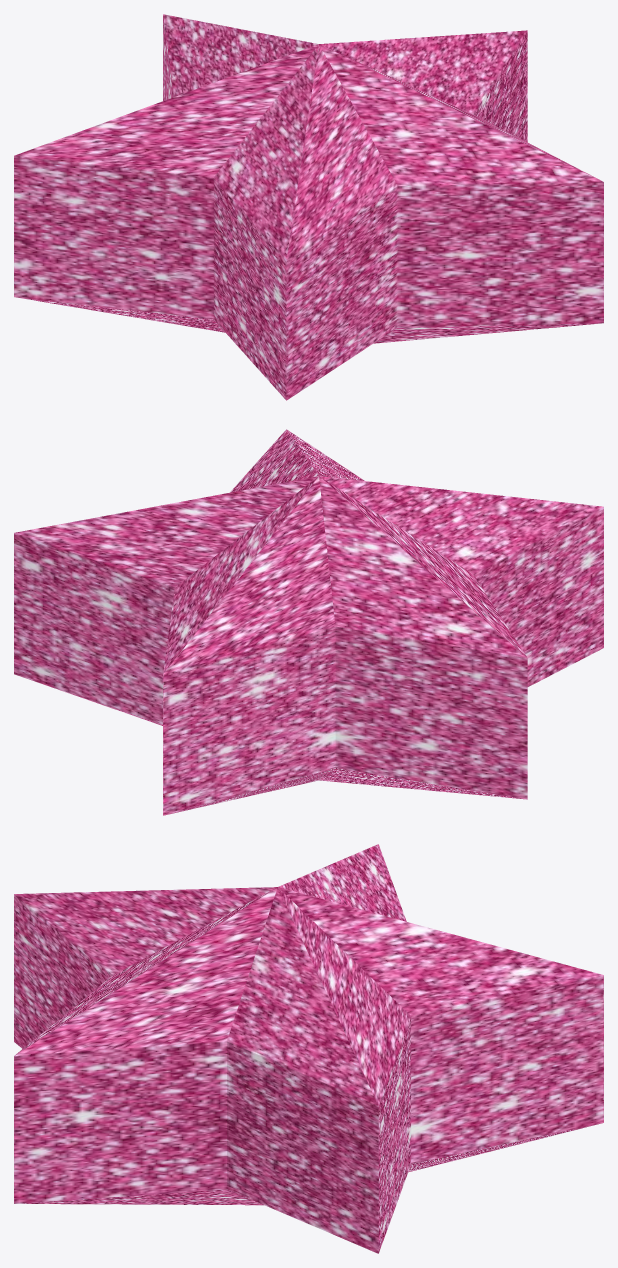
The model's file is starpink.glb.
3 renders of one model, top to bottom at view 1: azimuth 30°, elevation 25°; view 2: azimuth 150°, elevation 25°; view 3: azimuth 270°, elevation 25°, orthographic. The views are drawn at different scales.
Visible parts, largest first — view 1: Cylinder.001; view 2: Cylinder.001; view 3: Cylinder.001.
Part boxes in pixels (bbox=[...]): Cylinder.001: bbox=[14, 14, 603, 400]; Cylinder.001: bbox=[14, 429, 603, 815]; Cylinder.001: bbox=[14, 844, 603, 1253].
Size of the model in its own units: 1.9 by 1.08 by 1.81.
1 material, 1 textured.
